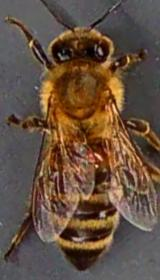varroa_mite: (80, 143, 110, 177)
